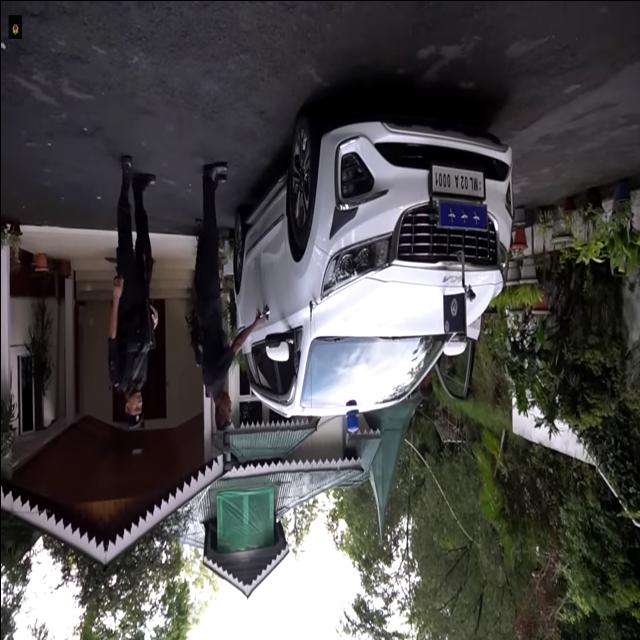emergency-vehicles: (222, 104, 532, 442)
